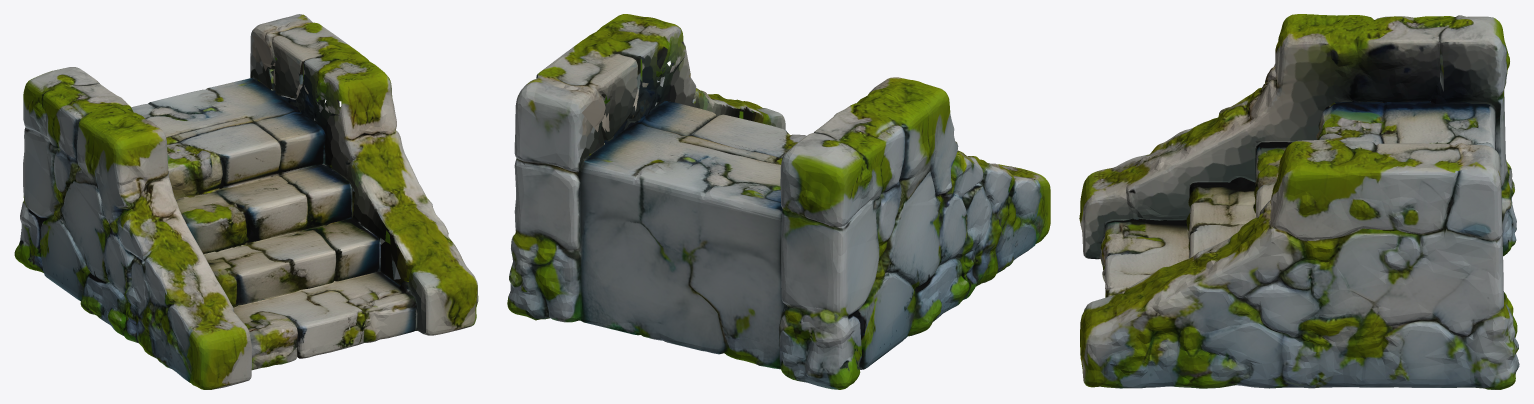
Rendered from mossy-stone-steps-module-optimized.glb.
3 renders of one model, left to right at view 1: azimuth 30°, elevation 25°; view 2: azimuth 150°, elevation 25°; view 3: azimuth 270°, elevation 25°, orthographic. The views are drawn at different scales.
Visible parts, largest first — view 1: 13c89b6e-224f-4129-adf6-bc243714801d_texturing.obj; view 2: 13c89b6e-224f-4129-adf6-bc243714801d_texturing.obj; view 3: 13c89b6e-224f-4129-adf6-bc243714801d_texturing.obj.
Boxes of the visible parts, x1=… form: 13c89b6e-224f-4129-adf6-bc243714801d_texturing.obj: x1=14, y1=14, x2=478, y2=389; 13c89b6e-224f-4129-adf6-bc243714801d_texturing.obj: x1=507, y1=14, x2=1050, y2=389; 13c89b6e-224f-4129-adf6-bc243714801d_texturing.obj: x1=1079, y1=14, x2=1519, y2=389.
Size of the model in its own units: 2.68 by 1.72 by 3.
Materials: 1 (1 with a texture image).
